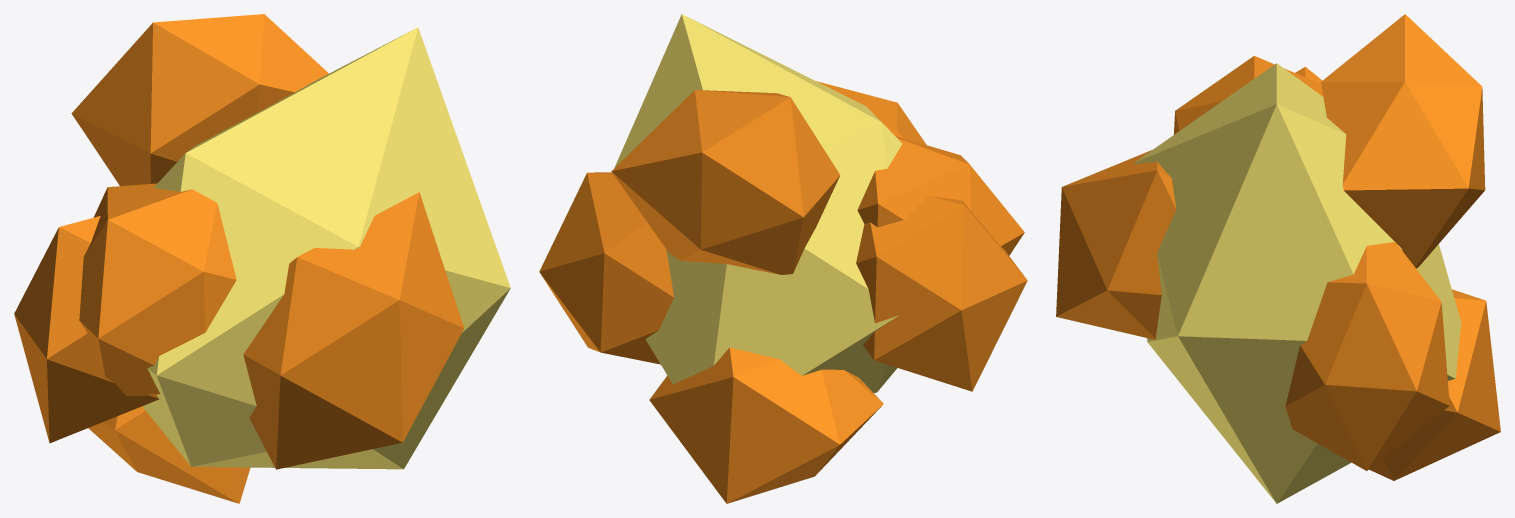
The model's file is frame_0.glb.
The picture shows the model from 3 angles, left to right: view 1: azimuth 30°, elevation 25°; view 2: azimuth 150°, elevation 25°; view 3: azimuth 270°, elevation 25°; orthographic projection. The views are drawn at different scales.
Visible parts, largest first — view 1: effect_explosion_small_frame_0; view 2: effect_explosion_small_frame_0; view 3: effect_explosion_small_frame_0.
Boxes of the visible parts, bbox=[...] form: effect_explosion_small_frame_0: bbox=[14, 14, 510, 503]; effect_explosion_small_frame_0: bbox=[539, 14, 1027, 503]; effect_explosion_small_frame_0: bbox=[1056, 14, 1500, 503].
Size of the model in its own units: 3.69 by 3.44 by 3.22.
